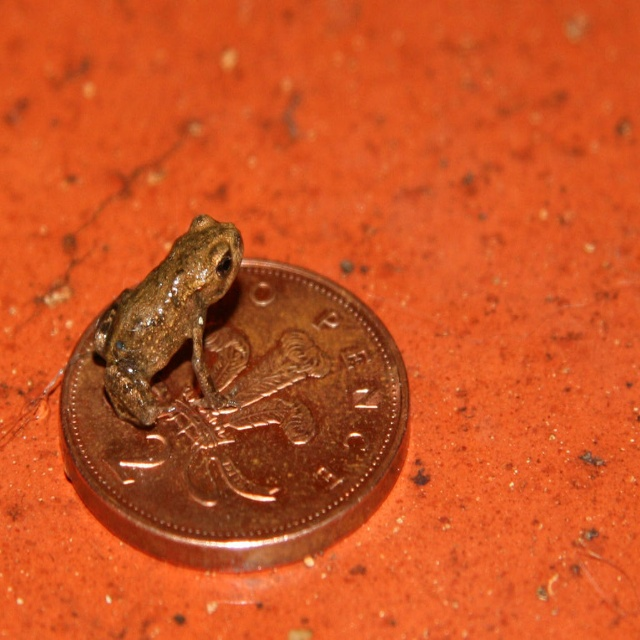Frog: (88, 214, 244, 428)
